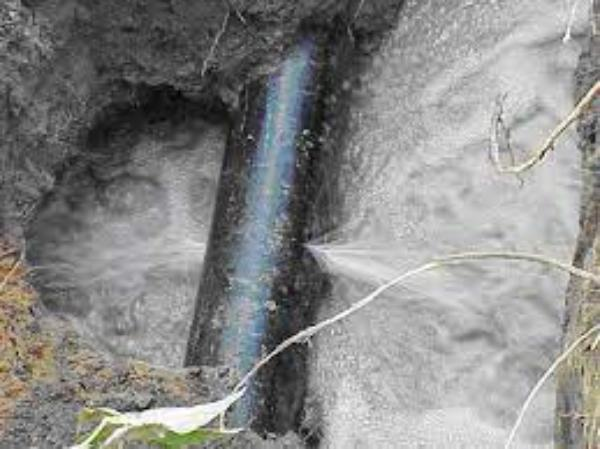pipe burst: (291, 230, 429, 282), (138, 231, 211, 277)
water accumulation: (294, 0, 600, 446), (23, 100, 229, 374)
